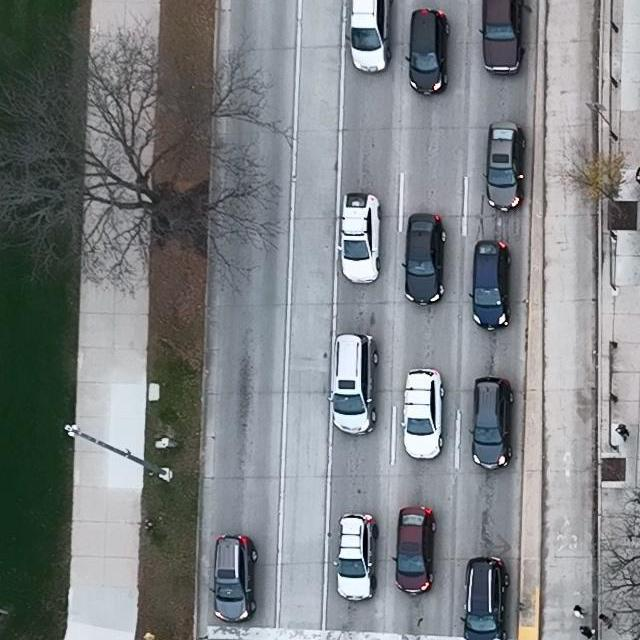car: (327, 333, 378, 436), (208, 534, 258, 625), (468, 376, 515, 470), (332, 513, 380, 601), (460, 556, 509, 640), (482, 122, 527, 213), (336, 192, 381, 283), (400, 368, 445, 459), (390, 506, 436, 594), (402, 214, 446, 305), (405, 7, 450, 95), (470, 240, 513, 331), (478, 0, 524, 75), (345, 0, 391, 72)
